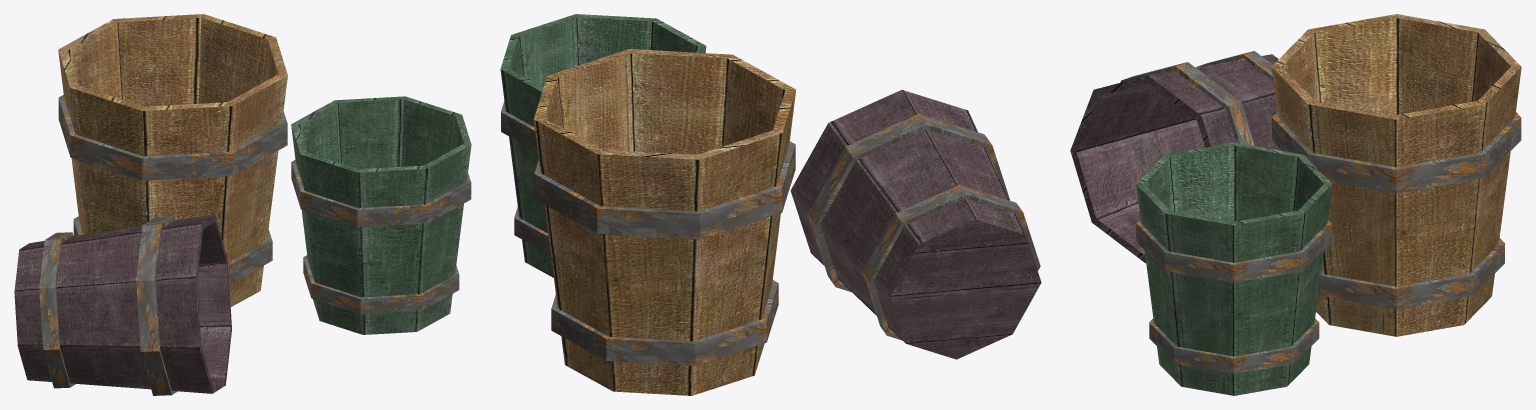
File: Bucket_FBX.fbx
3 renders of one model, left to right at view 1: azimuth 30°, elevation 25°; view 2: azimuth 150°, elevation 25°; view 3: azimuth 270°, elevation 25°, orthographic. The views are drawn at different scales.
Visible parts, largest first — view 1: Bucket, Bucket1, Bucket2; view 2: Bucket, Bucket2, Bucket1; view 3: Bucket, Bucket1, Bucket2.
Boxes of the visible parts, bbox=[...] form: Bucket: bbox=[58, 14, 287, 306]; Bucket1: bbox=[291, 96, 471, 334]; Bucket2: bbox=[14, 214, 231, 395]; Bucket: bbox=[533, 49, 795, 395]; Bucket2: bbox=[790, 90, 1041, 359]; Bucket1: bbox=[500, 14, 706, 277]; Bucket: bbox=[1271, 14, 1521, 336]; Bucket1: bbox=[1136, 142, 1332, 395]; Bucket2: bbox=[1070, 51, 1281, 263].
Size of the model in its own units: 18.53 by 8.8 by 15.16.
